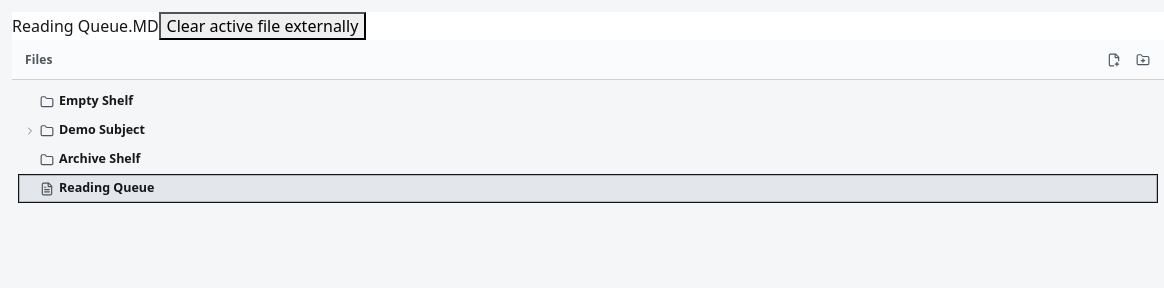
it: FileExplorer › clears the old note when a context click selects a different directory
Right-click the list item "Archive Shelf": (100, 159) [18, 145, 1158, 174]
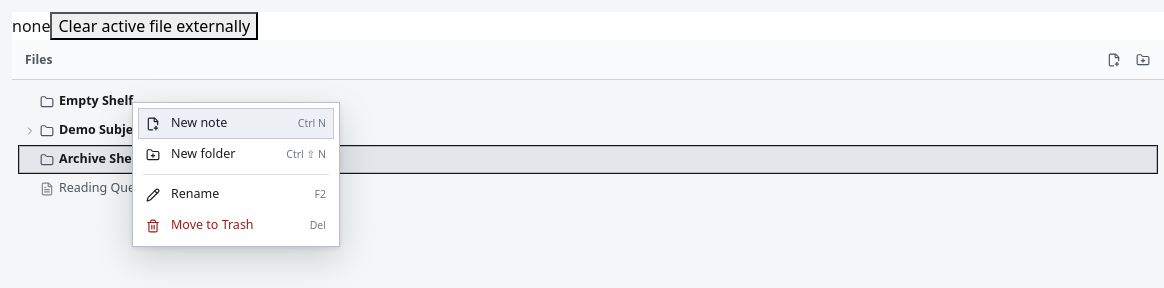
Now the text with test id "active-file" reads "none", box [12, 15, 50, 37]
